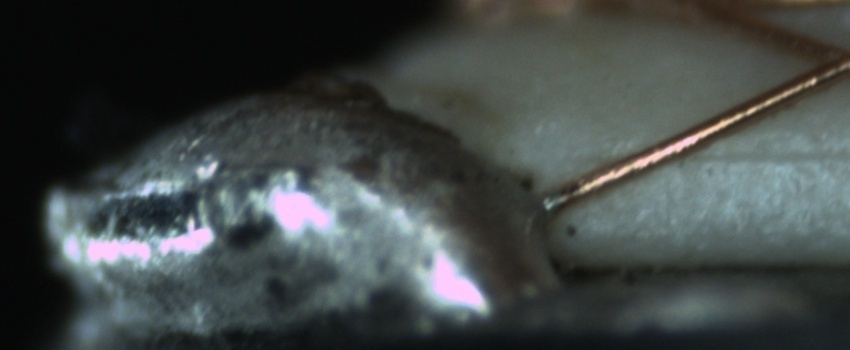CL: (797, 27, 850, 88)
DL: (626, 118, 850, 189)
TS: (538, 182, 567, 213)
